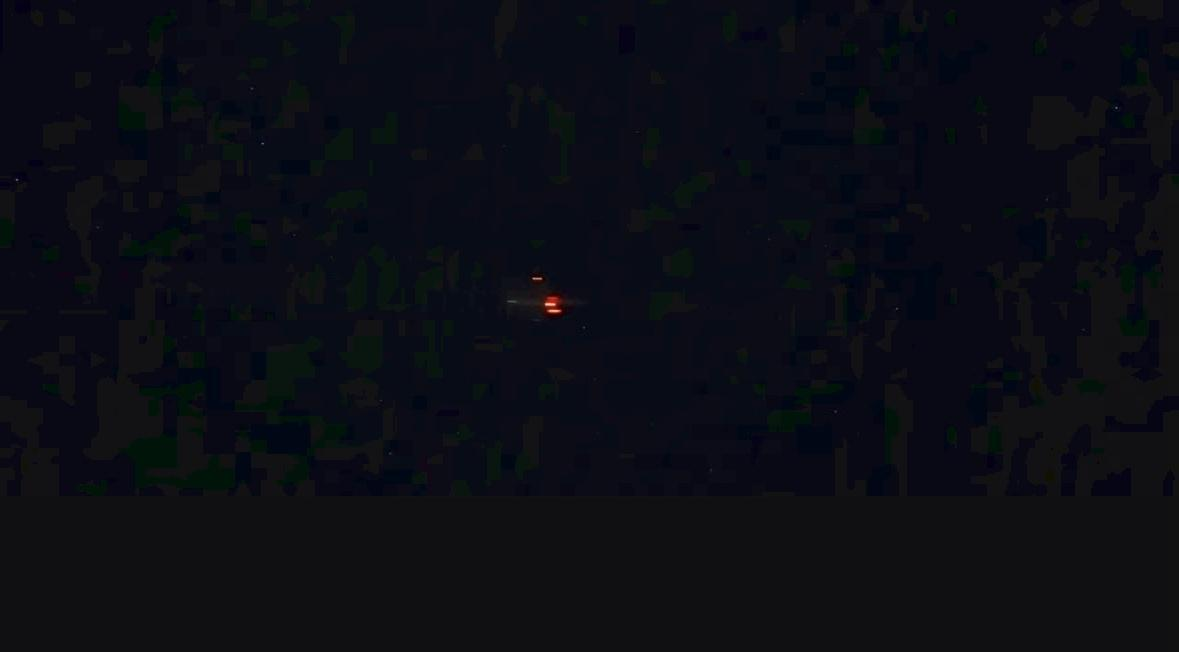Plane: (480, 255, 605, 335)
